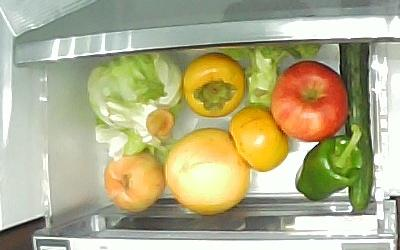apple: (271, 60, 349, 141)
broccoli: (211, 41, 322, 105)
cucumber: (338, 43, 373, 213)
grapefruit: (164, 127, 249, 213)
lettuce: (86, 51, 183, 161)
paprika: (294, 123, 363, 202)
peach: (102, 151, 167, 212)
persimmon: (181, 52, 246, 118), (228, 103, 289, 171)
